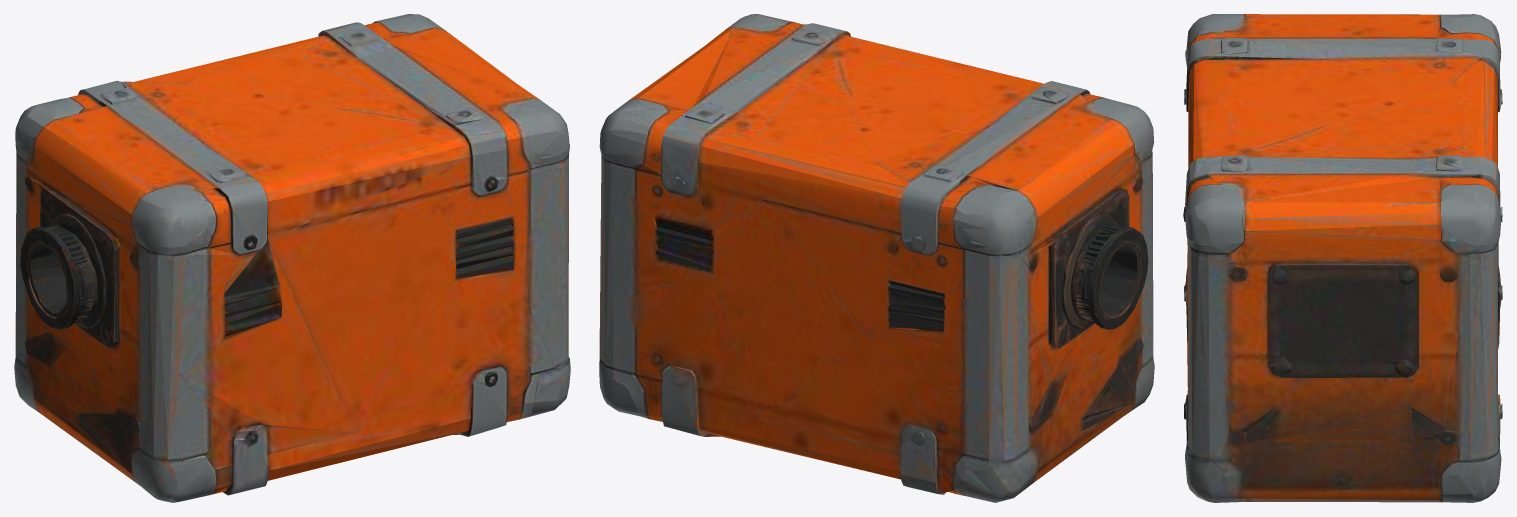
The model's file is spe_boitenoire.glb.
3 renders of one model, left to right at view 1: azimuth 30°, elevation 25°; view 2: azimuth 150°, elevation 25°; view 3: azimuth 270°, elevation 25°, orthographic.
Size of the model in its own units: 1.92 by 1.22 by 1.14.
1 material, 1 textured.
